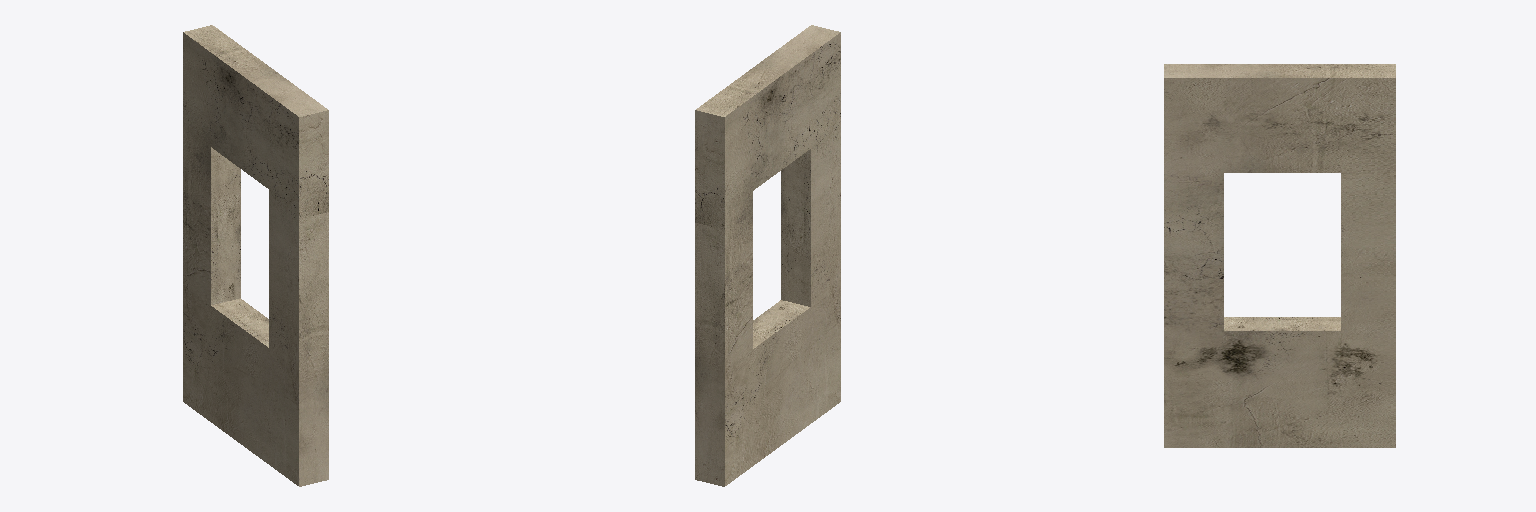
3 views of the same model, side by side, from view 1: azimuth 30°, elevation 25°; view 2: azimuth 150°, elevation 25°; view 3: azimuth 270°, elevation 25° (orthographic).
Visible parts, largest first — view 1: Box02; view 2: Box02; view 3: Box02.
Boxes of the visible parts, box(x1,y1,x2,y2) form: Box02: box(183, 25, 328, 486); Box02: box(695, 25, 840, 486); Box02: box(1164, 64, 1395, 447).
Size of the model in its own units: 0.2933 by 3.5 by 2.
1 materials, 1 textured.